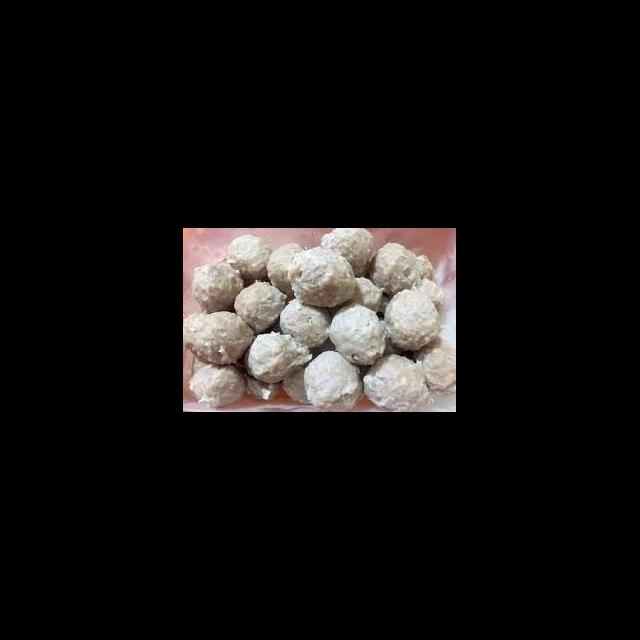food_waste: (245, 273, 402, 372)
